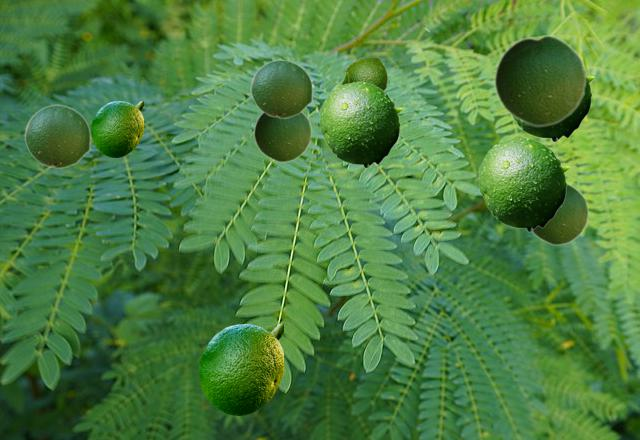dalandan: (493, 34, 586, 127), (478, 137, 569, 231), (199, 324, 282, 414), (319, 81, 402, 167), (513, 75, 594, 141), (24, 104, 90, 168), (250, 59, 312, 118), (531, 183, 588, 245), (253, 112, 311, 162), (91, 101, 142, 156), (341, 57, 386, 90)
